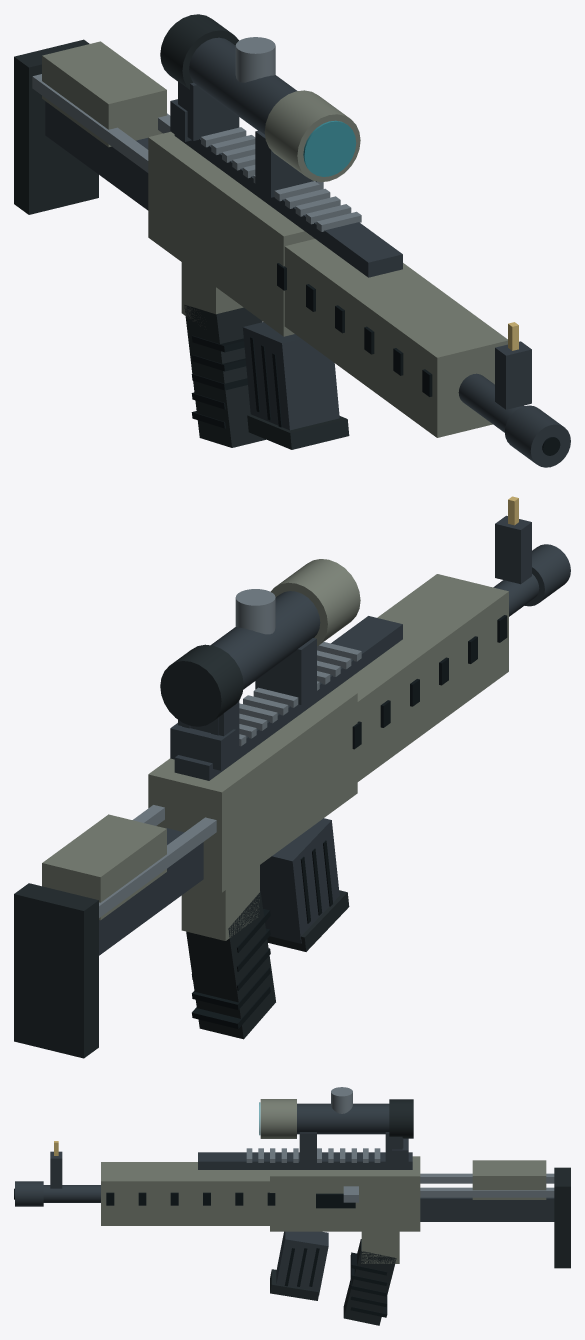
The model's file is dmr_02_watchman.glb.
3 renders of one model, top to bottom at view 1: azimuth 30°, elevation 25°; view 2: azimuth 150°, elevation 25°; view 3: azimuth 270°, elevation 25°, orthographic. The views are drawn at different scales.
Parts seen in each view (by area): view 1: handguard, receiver, cheek_rest, buttpad, magazine, grip, scope_tube, upper_rail, scope_objective, stock_spine, muzzle_device, scope_eyepiece (+10 smaller); view 2: receiver, handguard, buttpad, cheek_rest, grip, magazine, scope_eyepiece, scope_tube, upper_rail, stock_spine, scope_objective, grip_tang (+10 smaller); view 3: handguard, receiver, stock_spine, upper_rail, scope_tube, cheek_rest, magazine, grip, buttpad, scope_objective, stock_rod_R, grip_tang (+11 smaller).
Part boxes in pixels (box(x1,y1,x2,y2)): handguard: box(284, 239, 507, 437); receiver: box(148, 131, 314, 336); cheek_rest: box(42, 41, 166, 147); buttpad: box(14, 39, 98, 214); magazine: box(242, 322, 339, 430); grip: box(184, 305, 265, 447); scope_tube: box(189, 37, 296, 134); upper_rail: box(174, 134, 402, 277); scope_objective: box(264, 90, 360, 182); stock_spine: box(45, 101, 148, 210); muzzle_device: box(504, 405, 570, 467); scope_eyepiece: box(160, 14, 238, 89); receiver: box(148, 688, 357, 892); handguard: box(337, 574, 508, 781); buttpad: box(14, 883, 98, 1058); cheek_rest: box(42, 814, 166, 920); grip: box(186, 891, 275, 1039); magazine: box(260, 818, 339, 943); scope_eyepiece: box(160, 644, 243, 726); scope_tube: box(211, 591, 320, 689); upper_rail: box(174, 616, 402, 780); stock_spine: box(99, 828, 203, 955); scope_objective: box(270, 559, 360, 646); grip_tang: box(181, 865, 259, 940); handguard: box(101, 1162, 269, 1225); receiver: box(270, 1156, 420, 1231); stock_spine: box(420, 1197, 554, 1221); upper_rail: box(198, 1152, 412, 1169); scope_tube: box(297, 1103, 389, 1134); cheek_rest: box(472, 1160, 546, 1199); magazine: box(276, 1231, 328, 1294); grip: box(343, 1239, 396, 1325); buttpad: box(554, 1167, 570, 1268); scope_objective: box(260, 1099, 296, 1138); stock_rod_R: box(420, 1187, 554, 1197); grip_tang: box(361, 1231, 399, 1263).
Size of the model in its own units: 0.113 by 0.4106 by 0.9085.
